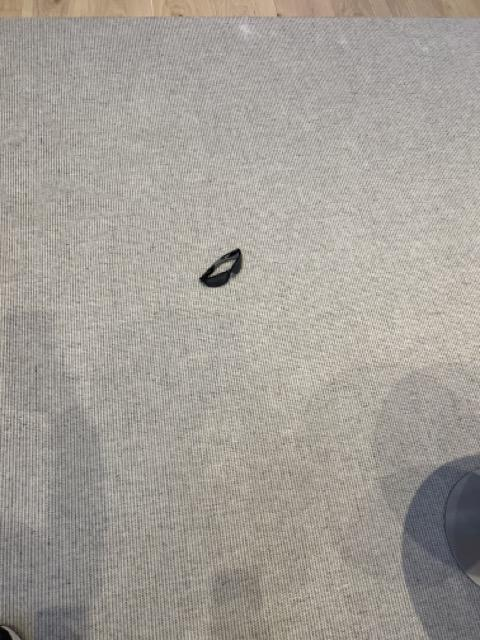Sunglasses: (199, 246, 244, 289)
